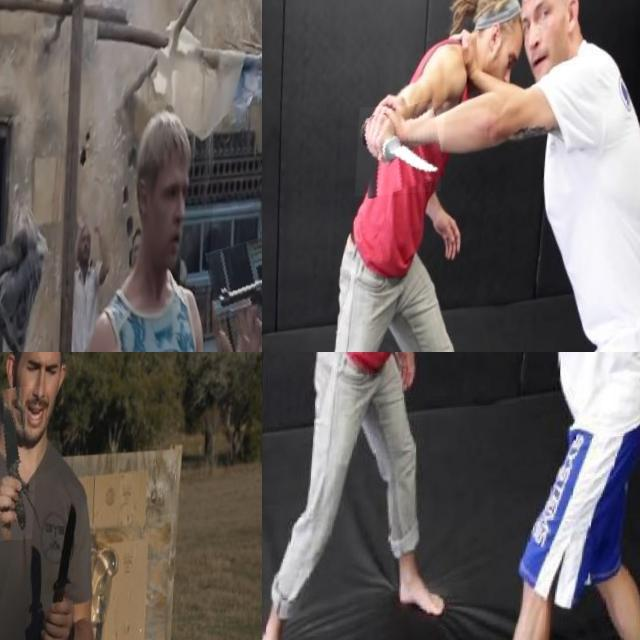-: (357, 106, 447, 199), (0, 390, 42, 546), (378, 352, 478, 412), (47, 500, 84, 640)
